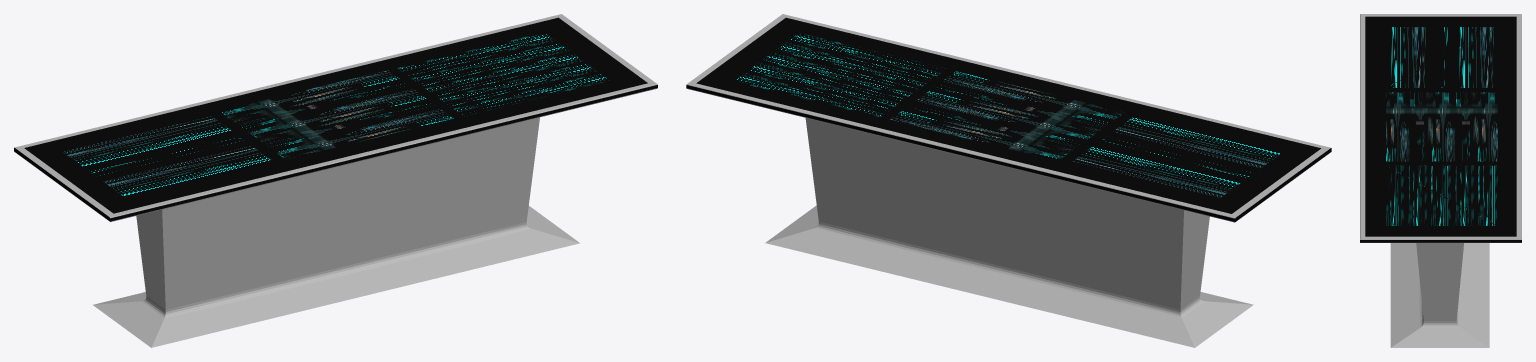
The model's file is IN_Troduction_Table.FBX.
3 renders of one model, left to right at view 1: azimuth 30°, elevation 25°; view 2: azimuth 150°, elevation 25°; view 3: azimuth 270°, elevation 25°, orthographic. The views are drawn at different scales.
Parts seen in each view (by area): view 1: Box001; view 2: Box001; view 3: Box001.
Boxes of the visible parts, x1,y1,x2,y2 form: Box001: (14, 14, 657, 347); Box001: (686, 14, 1331, 347); Box001: (1360, 14, 1521, 347).
Size of the model in its own units: 54.48 by 15.02 by 16.56.
